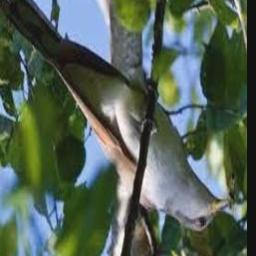Cuckoo: (0, 0, 228, 233)
